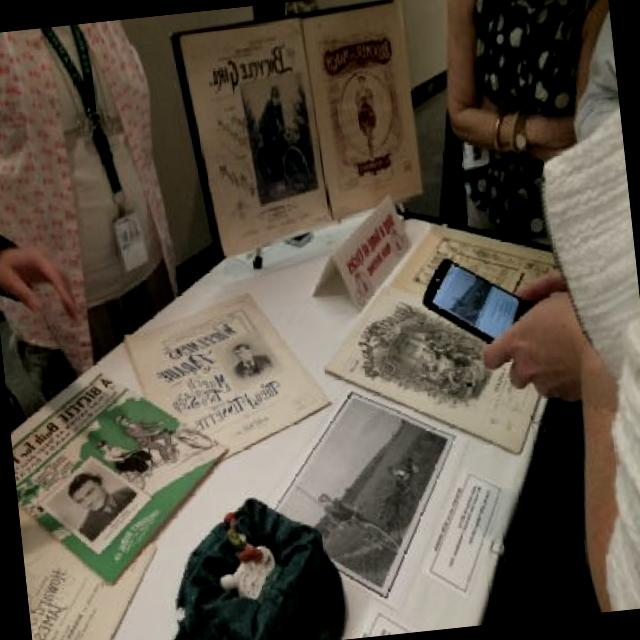Person: (65, 468, 141, 544), (254, 86, 292, 182), (352, 70, 380, 160)
